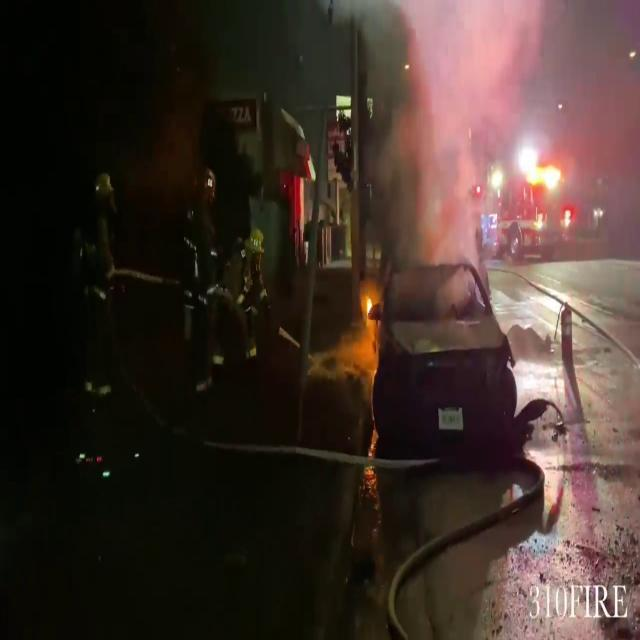Smoke: (365, 0, 510, 268)
